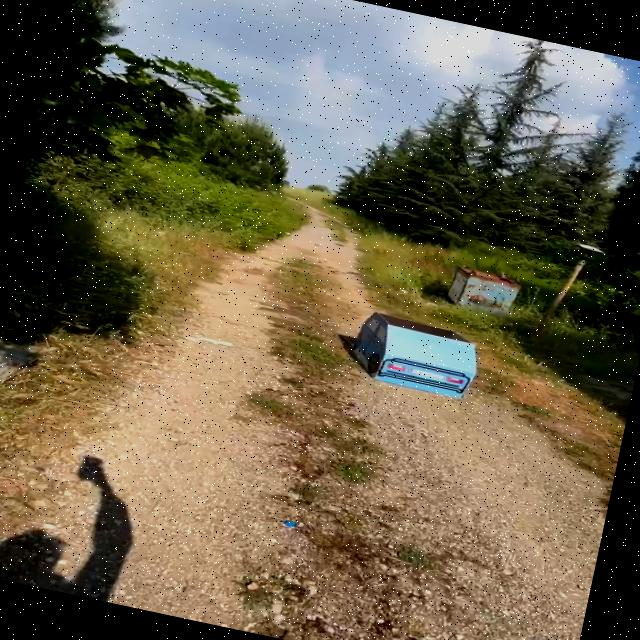blue_car: (314, 293, 507, 420)
